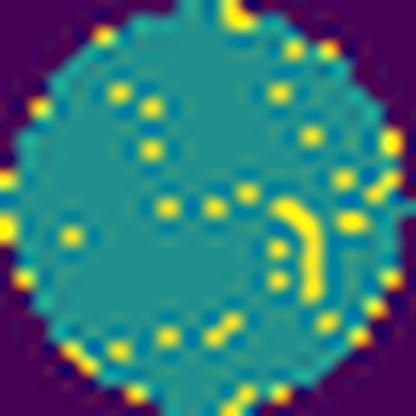Scratch: (268, 194, 332, 307)
